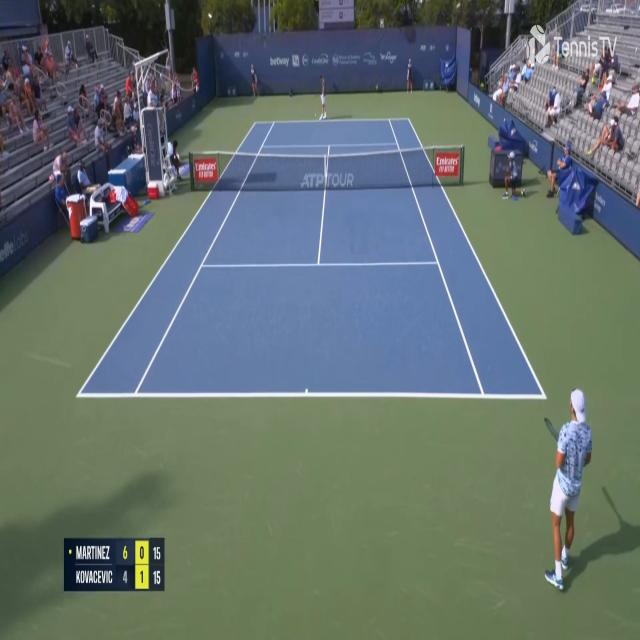tennis-player: (542, 380, 627, 595), (317, 71, 329, 122)
